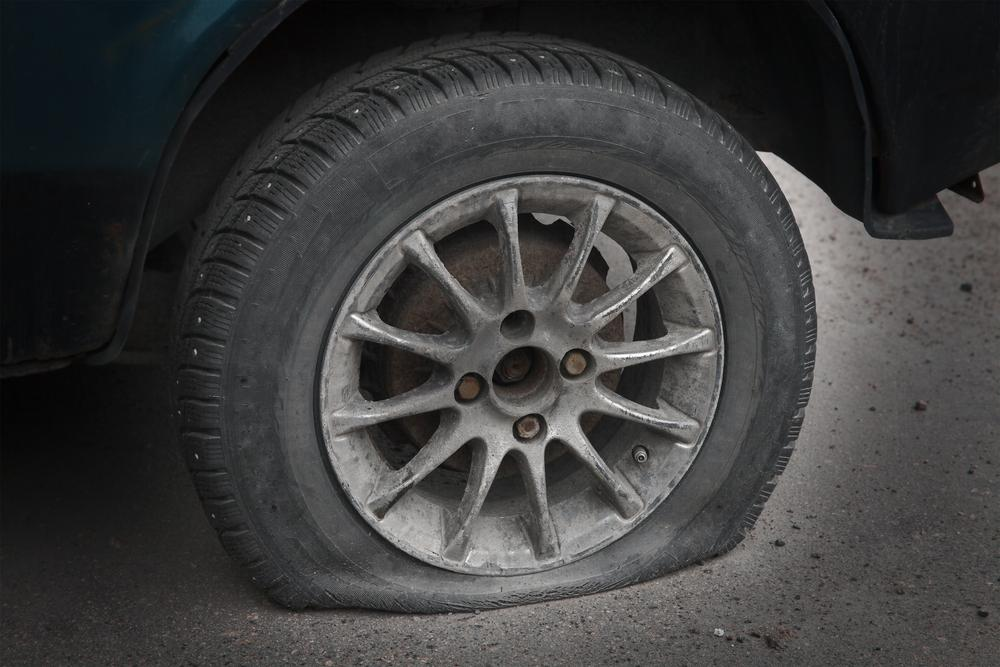tire flat: (171, 33, 823, 615)
